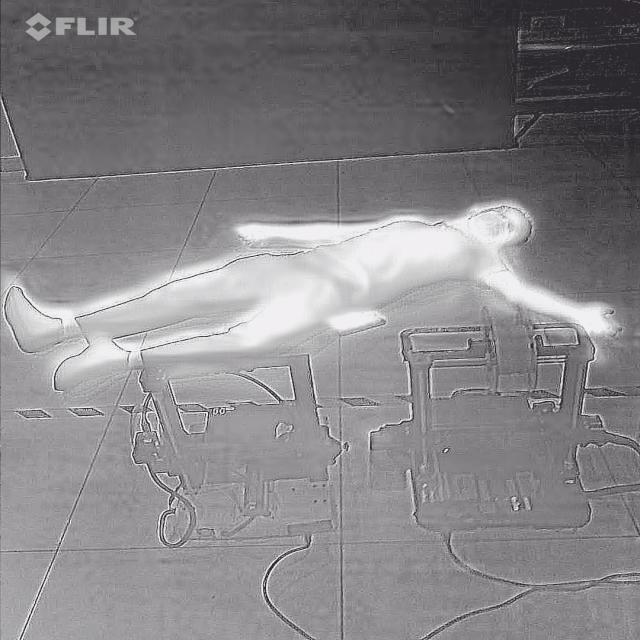Victim: (0, 198, 628, 393)
